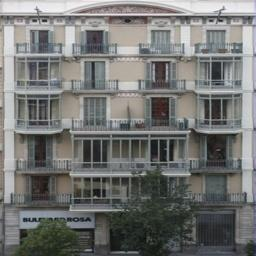building: (1, 0, 253, 238)
